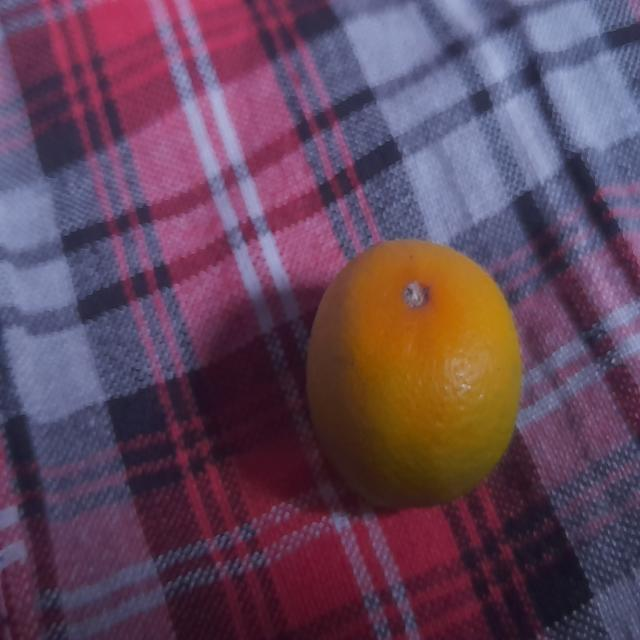greening: (305, 238, 527, 519)
